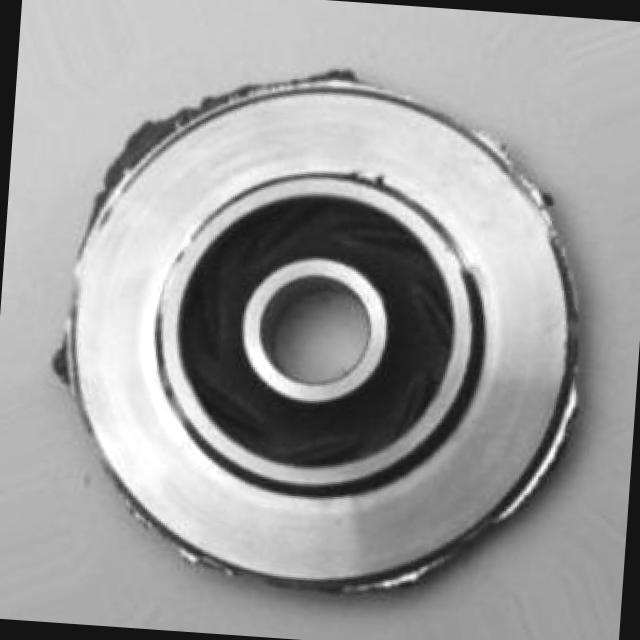Defect: (106, 107, 192, 162)
